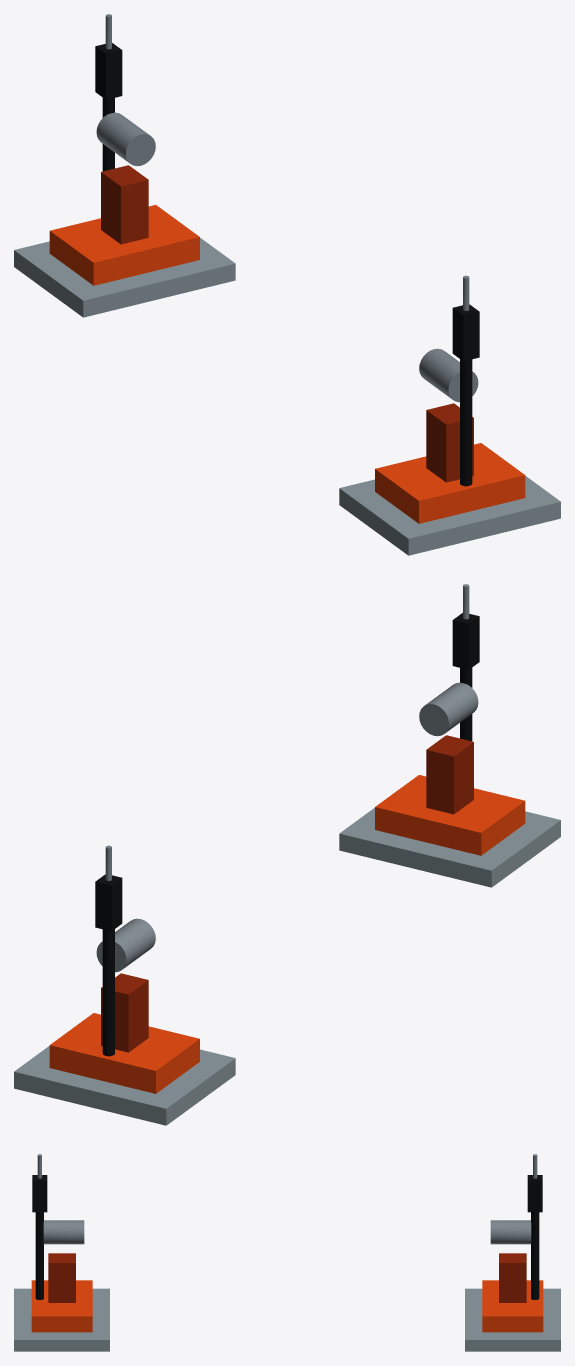
Rendered from bearing_run_in_stand.dae.
The picture shows the model from 3 angles, top to bottom: view 1: azimuth 30°, elevation 25°; view 2: azimuth 150°, elevation 25°; view 3: azimuth 270°, elevation 25°; orthographic projection. The views are drawn at different scales.
Visible parts, largest first — view 1: bearing_run_in_stand; view 2: bearing_run_in_stand; view 3: bearing_run_in_stand.
Boxes of the visible parts, left/top/right/bottom form: bearing_run_in_stand: left=14, top=14, right=560, bottom=555; bearing_run_in_stand: left=14, top=584, right=560, bottom=1125; bearing_run_in_stand: left=14, top=1154, right=560, bottom=1351.
Bounding box in the file's own units: 0.66 × 2.96 × 1.02.
